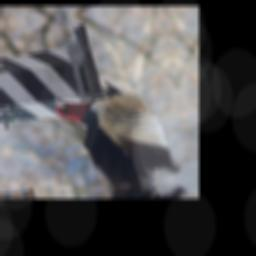Woodpecker: (45, 76, 180, 192)
